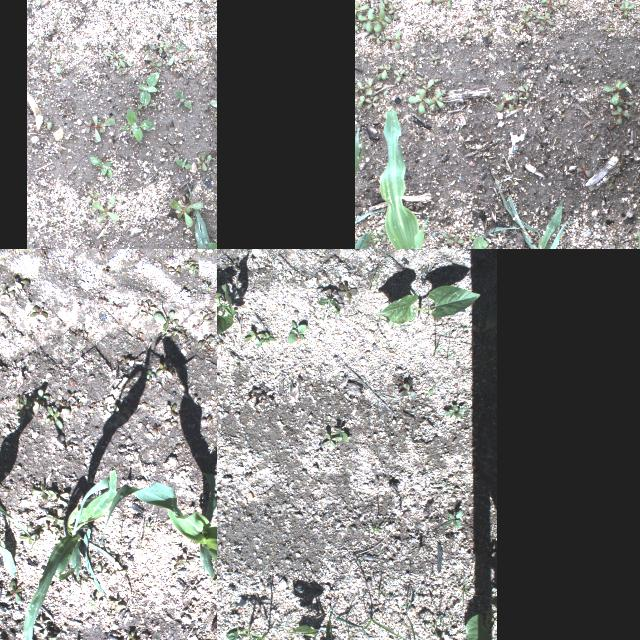crop: (354, 97, 568, 249), (101, 470, 217, 619), (22, 468, 117, 640), (584, 137, 640, 249), (375, 284, 481, 326), (0, 487, 25, 529), (217, 283, 234, 334), (466, 609, 492, 640), (0, 527, 16, 577), (285, 624, 334, 640), (225, 622, 267, 640), (317, 294, 337, 320)
weed: (118, 108, 156, 142), (167, 198, 203, 228), (463, 230, 518, 249), (358, 617, 406, 637), (84, 114, 116, 142), (600, 78, 628, 110), (355, 72, 377, 112), (361, 0, 389, 31), (404, 86, 434, 114), (137, 70, 157, 110), (91, 196, 119, 222), (456, 580, 478, 608), (424, 86, 444, 115), (1, 580, 22, 606), (14, 394, 32, 424), (154, 309, 176, 331), (370, 60, 390, 84), (17, 523, 37, 547), (367, 26, 387, 49), (167, 40, 186, 64), (376, 0, 400, 19), (46, 488, 70, 507), (90, 156, 110, 178), (610, 104, 630, 126), (496, 91, 516, 113), (30, 388, 50, 410), (287, 320, 307, 342), (194, 332, 217, 351), (44, 405, 62, 429), (242, 329, 266, 347), (528, 12, 554, 28), (512, 81, 532, 101), (616, 0, 638, 18), (104, 52, 132, 66), (335, 282, 359, 298), (443, 509, 463, 528), (384, 29, 400, 52), (392, 65, 410, 85), (44, 507, 64, 525), (8, 272, 30, 288), (112, 398, 128, 420), (174, 90, 192, 108), (518, 3, 536, 21), (109, 562, 127, 580), (330, 426, 348, 444), (196, 151, 212, 171), (49, 54, 65, 74), (446, 404, 468, 418), (321, 434, 343, 448), (38, 625, 58, 640), (208, 90, 217, 123), (108, 596, 124, 614), (29, 483, 45, 501), (182, 260, 200, 276), (149, 40, 169, 54), (156, 358, 170, 378), (197, 311, 217, 325), (165, 319, 182, 335), (364, 94, 380, 110), (40, 520, 56, 536), (166, 262, 182, 278), (398, 383, 414, 399), (174, 156, 192, 170), (258, 331, 276, 345), (28, 304, 48, 316), (84, 190, 100, 204), (180, 552, 196, 566), (162, 403, 178, 417), (538, 0, 559, 10), (95, 562, 108, 578), (436, 0, 453, 12), (515, 18, 529, 32), (181, 54, 197, 66), (36, 614, 52, 626), (75, 325, 91, 337), (142, 298, 158, 310), (199, 15, 211, 29), (138, 308, 152, 320), (427, 381, 439, 395), (160, 418, 178, 427), (138, 50, 148, 66), (53, 10, 61, 28), (53, 406, 71, 414), (70, 395, 82, 407), (99, 398, 111, 410), (197, 249, 215, 257), (200, 414, 214, 424), (96, 541, 110, 551), (117, 356, 131, 366), (144, 365, 154, 379), (191, 394, 201, 408), (211, 565, 217, 588), (413, 74, 425, 85), (0, 289, 13, 299), (146, 63, 162, 71), (424, 0, 442, 7), (127, 628, 137, 640), (22, 294, 32, 306), (175, 329, 188, 338), (172, 556, 180, 570), (89, 596, 97, 610), (150, 422, 160, 432), (91, 552, 103, 560), (111, 302, 123, 310), (41, 119, 50, 129), (371, 525, 382, 533), (146, 520, 154, 530), (136, 250, 144, 260), (204, 282, 212, 292), (64, 440, 74, 448), (74, 455, 86, 461), (97, 249, 107, 256), (54, 526, 62, 534), (97, 296, 107, 302), (36, 249, 46, 255), (130, 376, 140, 382), (102, 266, 110, 272), (443, 481, 451, 487), (188, 16, 192, 24), (460, 326, 468, 330)
